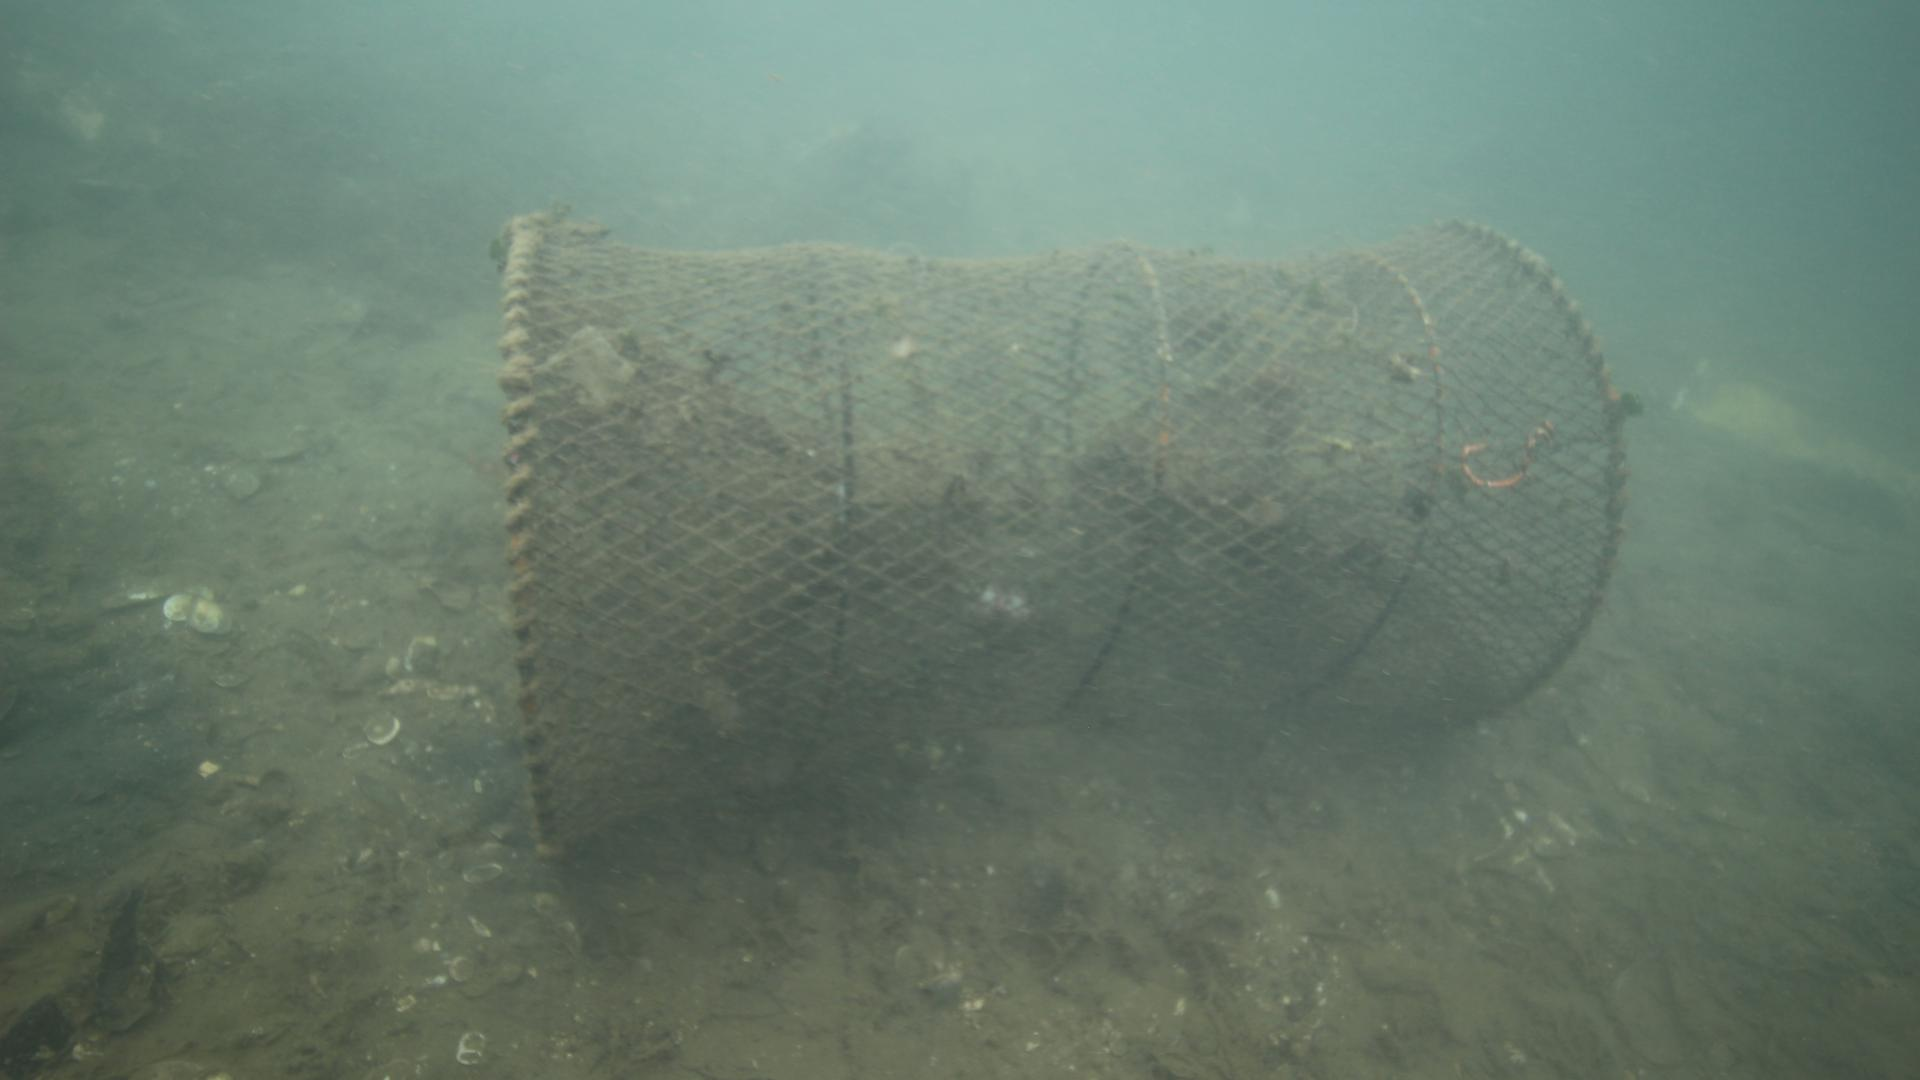spring fish trap: (495, 211, 1633, 851)
